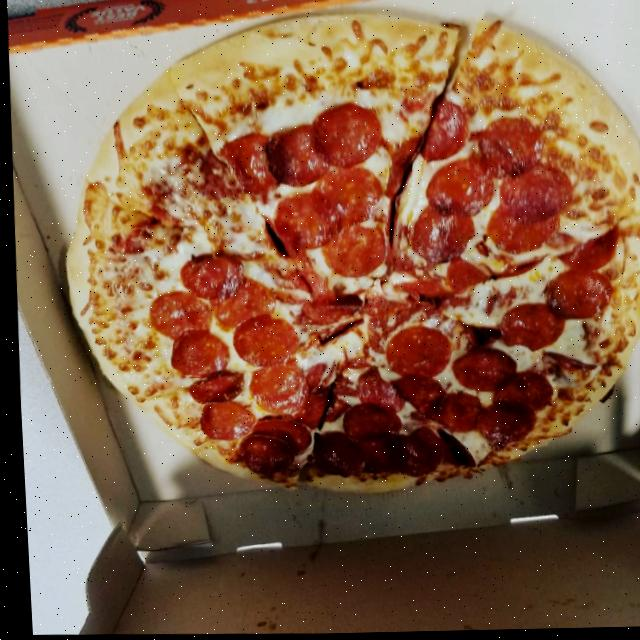pepperoni: (304, 102, 382, 170), (303, 163, 381, 229), (419, 158, 493, 220), (494, 165, 572, 223), (261, 124, 329, 190), (405, 201, 475, 265), (474, 117, 540, 183), (215, 131, 279, 195), (269, 192, 337, 252), (480, 203, 557, 255), (378, 325, 449, 381), (202, 275, 273, 330), (316, 223, 385, 279), (224, 314, 295, 368), (414, 96, 468, 166), (539, 270, 611, 322), (241, 362, 304, 419), (493, 303, 564, 353), (173, 254, 242, 302), (142, 292, 209, 341), (552, 225, 617, 274), (445, 347, 513, 393), (163, 328, 227, 376), (379, 132, 424, 200), (483, 371, 549, 415), (390, 426, 441, 480), (378, 376, 443, 418), (470, 403, 533, 445), (333, 402, 398, 442), (307, 430, 360, 479), (421, 391, 482, 433), (231, 433, 292, 475), (243, 416, 307, 456), (349, 367, 401, 416), (193, 401, 252, 442), (293, 390, 343, 430), (182, 372, 240, 406), (295, 294, 357, 325), (349, 435, 397, 471), (256, 217, 295, 261), (480, 258, 541, 280), (379, 199, 399, 260)
pizza: (43, 0, 640, 508)
